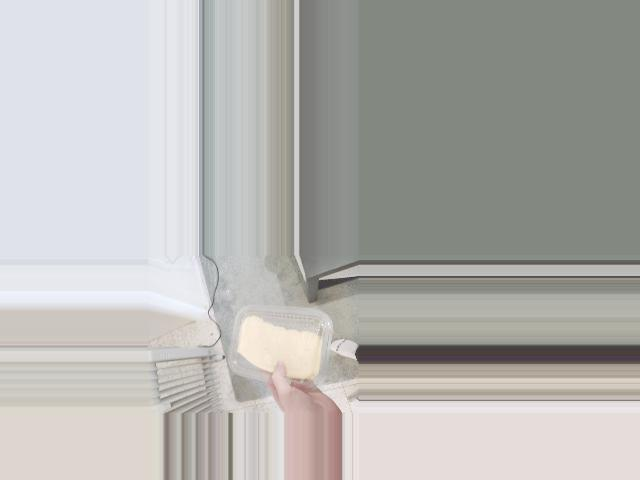cheese: (230, 312, 331, 385)
